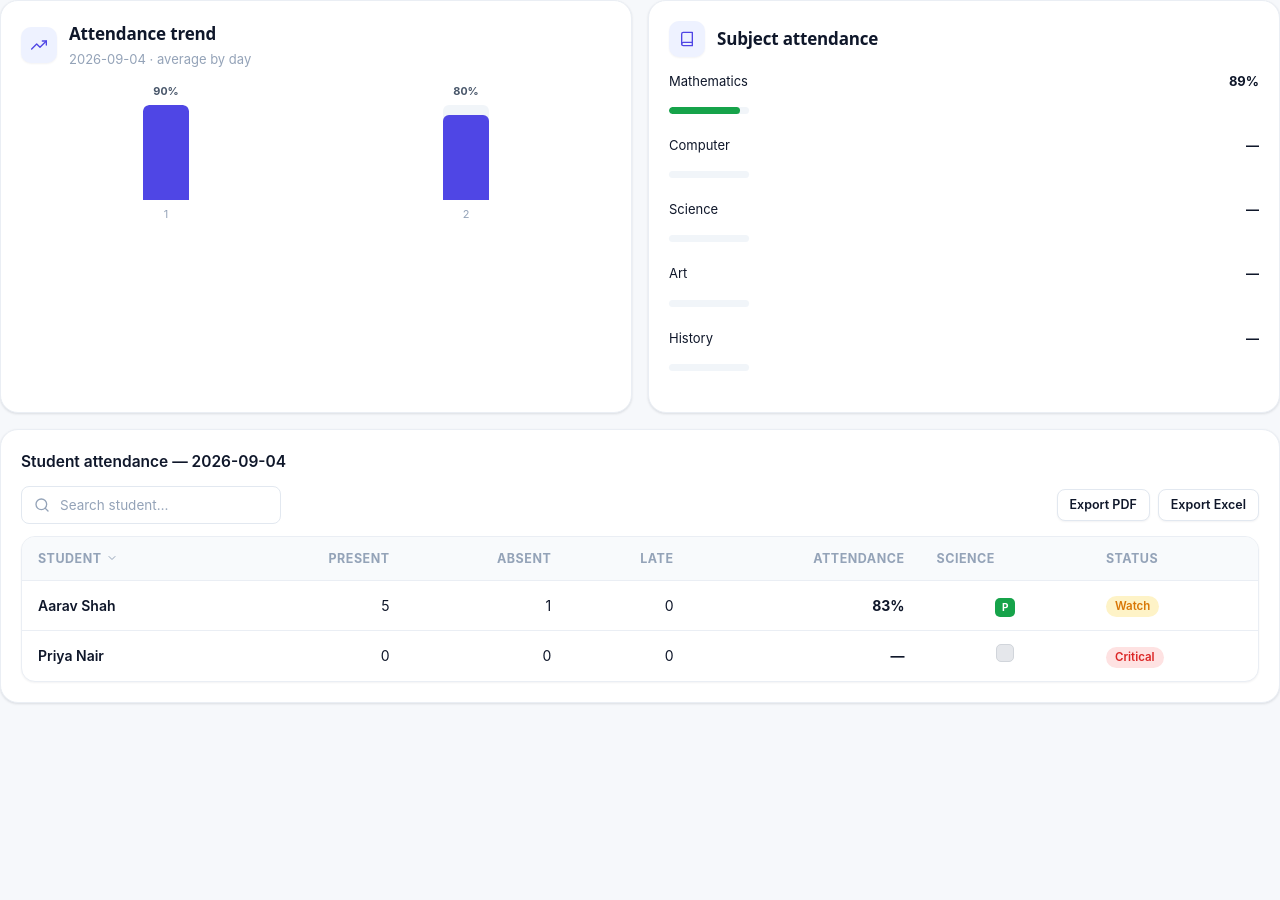
it: ClassAttendanceOverview › shows a "no matches" empty state when the search filters out every student
This screenshot has width=1280, height=900.
Type "zzz-no-such-student" into the field with placeholder "Search student…" at (163, 505), box [58,496,268,514]
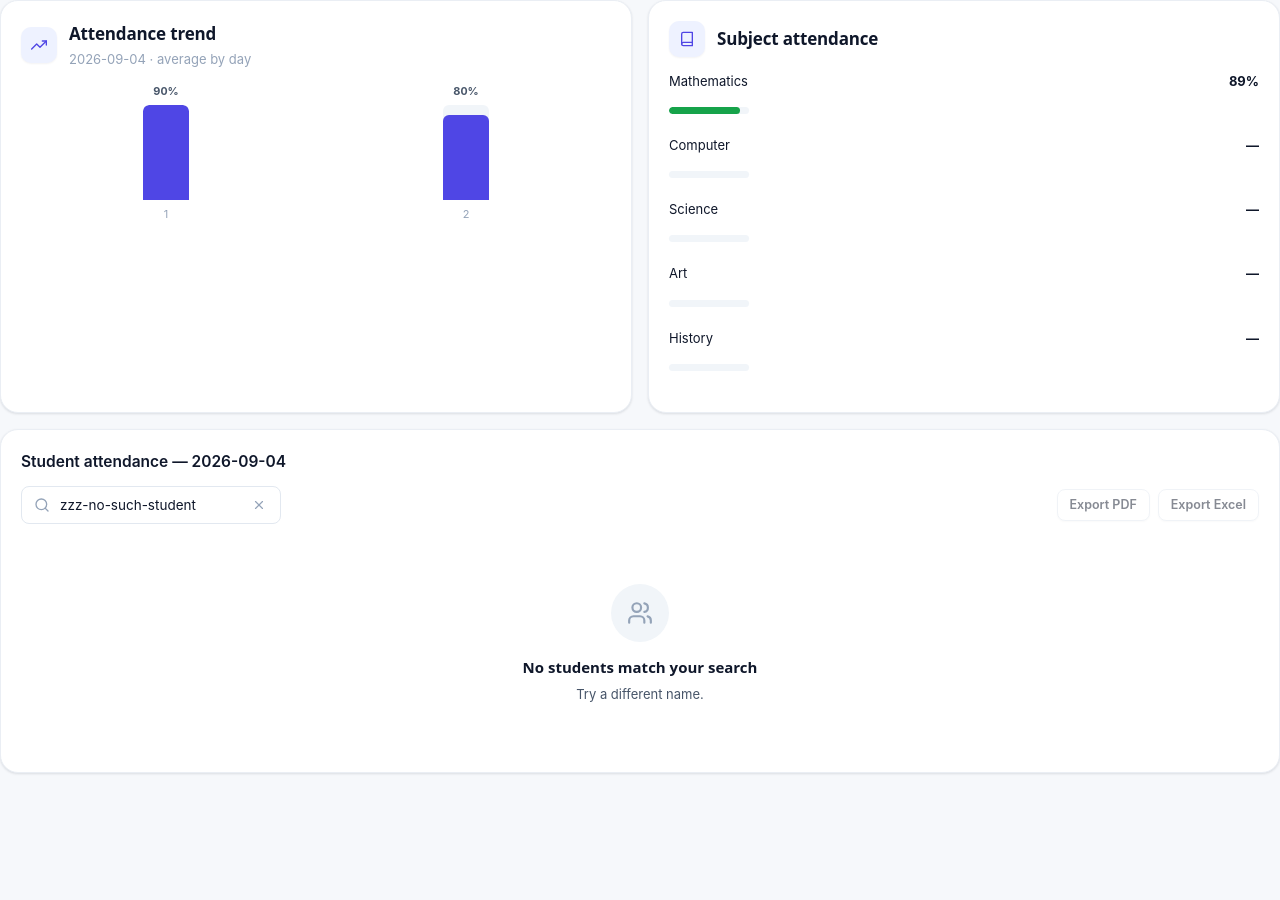
Expected: the text "No students match your search" is shown, [522,656,757,679]
